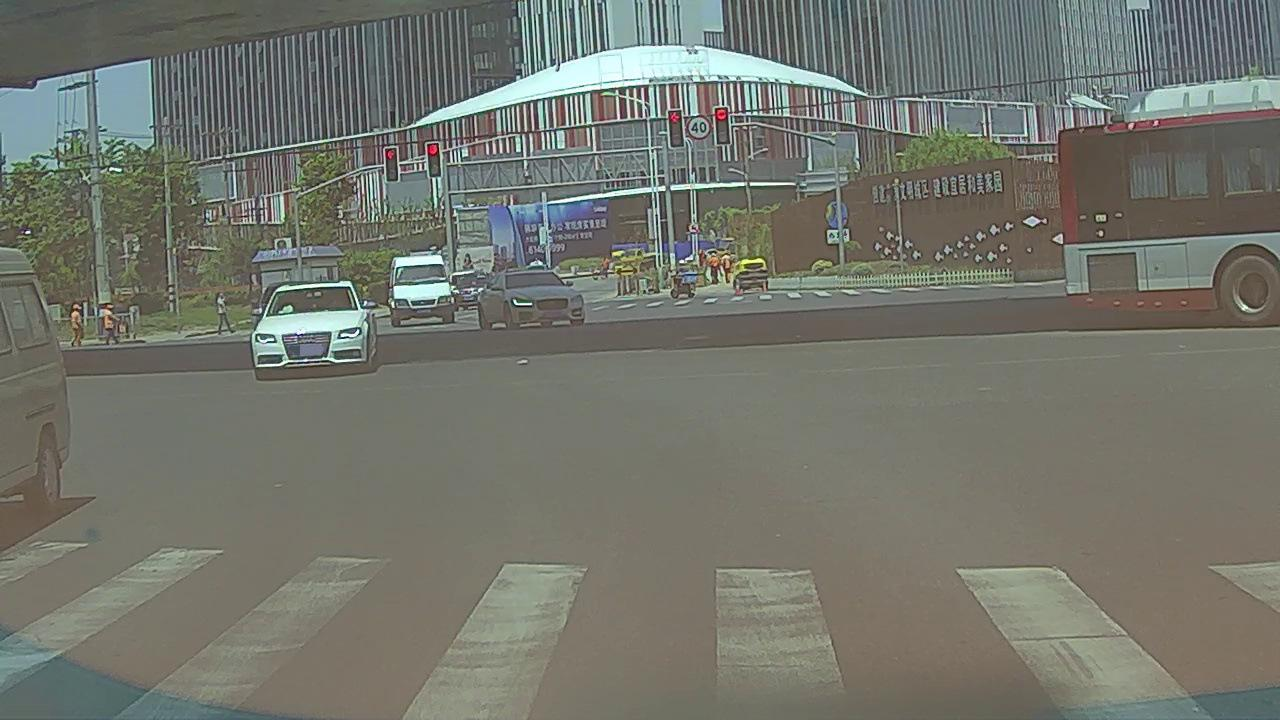traffic_light: (426, 142, 442, 179), (714, 107, 730, 144), (669, 110, 684, 148), (384, 148, 399, 182)
